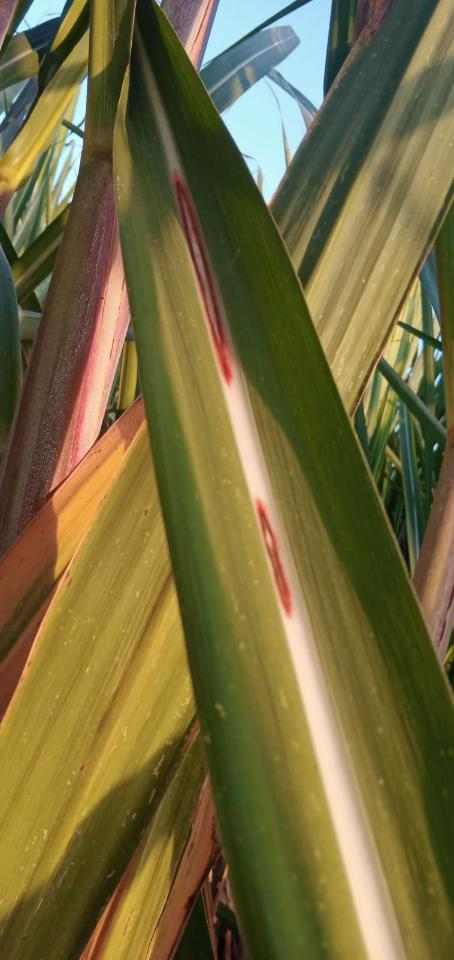RedRot: (172, 167, 235, 388), (255, 498, 294, 620)
